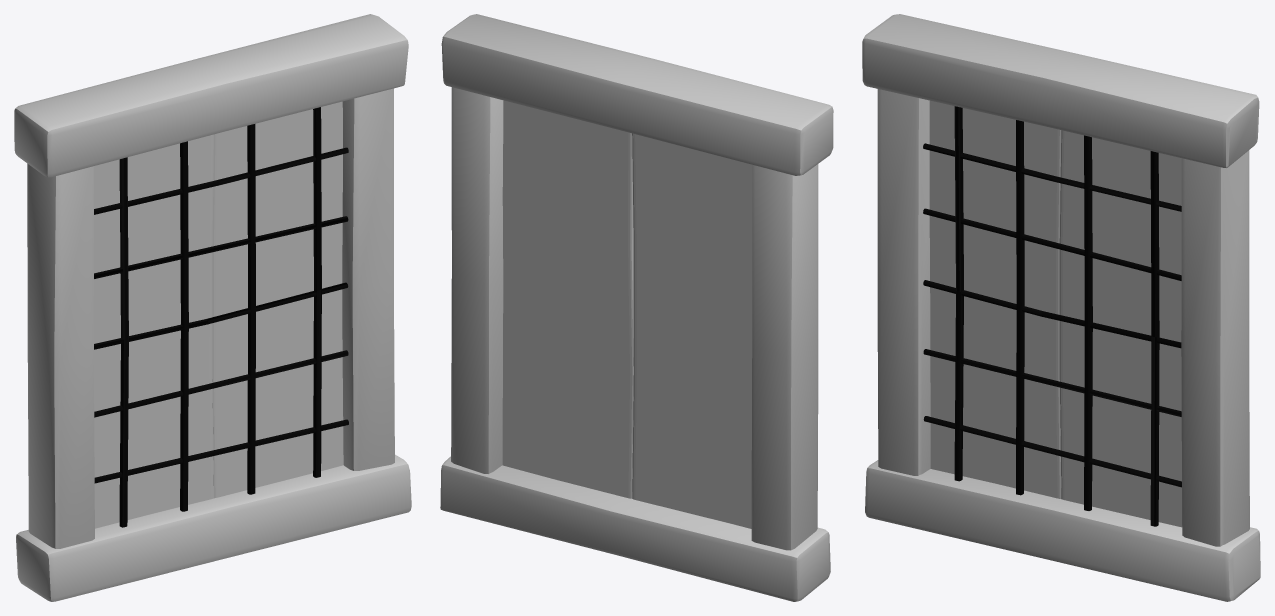
File: SM_Window_02.FBX
3 views of the same model, side by side, from view 1: azimuth 30°, elevation 25°; view 2: azimuth 150°, elevation 25°; view 3: azimuth 330°, elevation 25° (orthographic).
Visible parts, largest first — view 1: SM_Window_02, SM_Window_02_Shutter_Right, SM_Window_02_Shutter_Left; view 2: SM_Window_02, SM_Window_02_Shutter_Right, SM_Window_02_Shutter_Left; view 3: SM_Window_02, SM_Window_02_Shutter_Left, SM_Window_02_Shutter_Right.
Part boxes in pixels (x1,y1,x2,y2): SM_Window_02: (14,14,411,601); SM_Window_02_Shutter_Right: (212,101,343,498); SM_Window_02_Shutter_Left: (94,134,213,528); SM_Window_02: (440,14,833,601); SM_Window_02_Shutter_Right: (502,100,633,498); SM_Window_02_Shutter_Left: (632,133,752,528); SM_Window_02: (862,14,1260,601); SM_Window_02_Shutter_Left: (929,100,1061,498); SM_Window_02_Shutter_Right: (1059,130,1182,527).
Size of the model in its own units: 1.06 by 1.34 by 0.1914.
